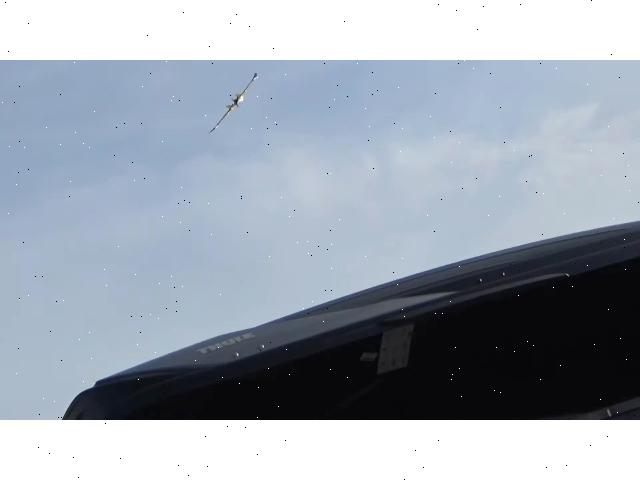Anti-Drone: (206, 74, 256, 134)
